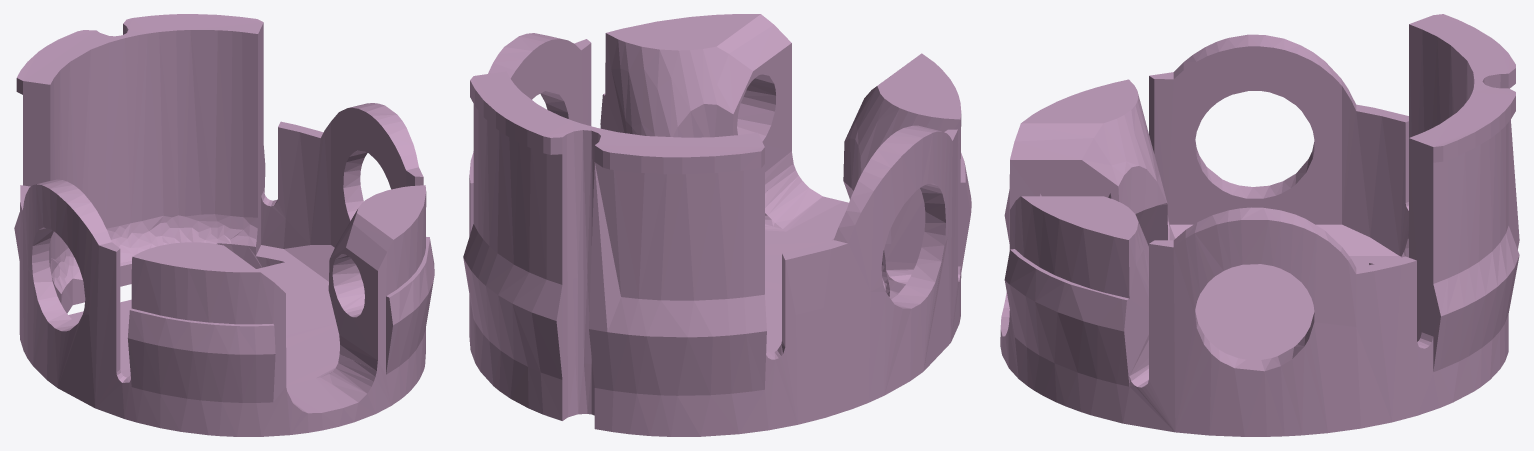
File: i02_head_right_eye_vertical_visual_0.obj.balanced.glb
3 renders of one model, left to right at view 1: azimuth 30°, elevation 25°; view 2: azimuth 150°, elevation 25°; view 3: azimuth 270°, elevation 25°, orthographic. The views are drawn at different scales.
Size of the model in its own units: 0.1896 by 0.1261 by 0.225.
